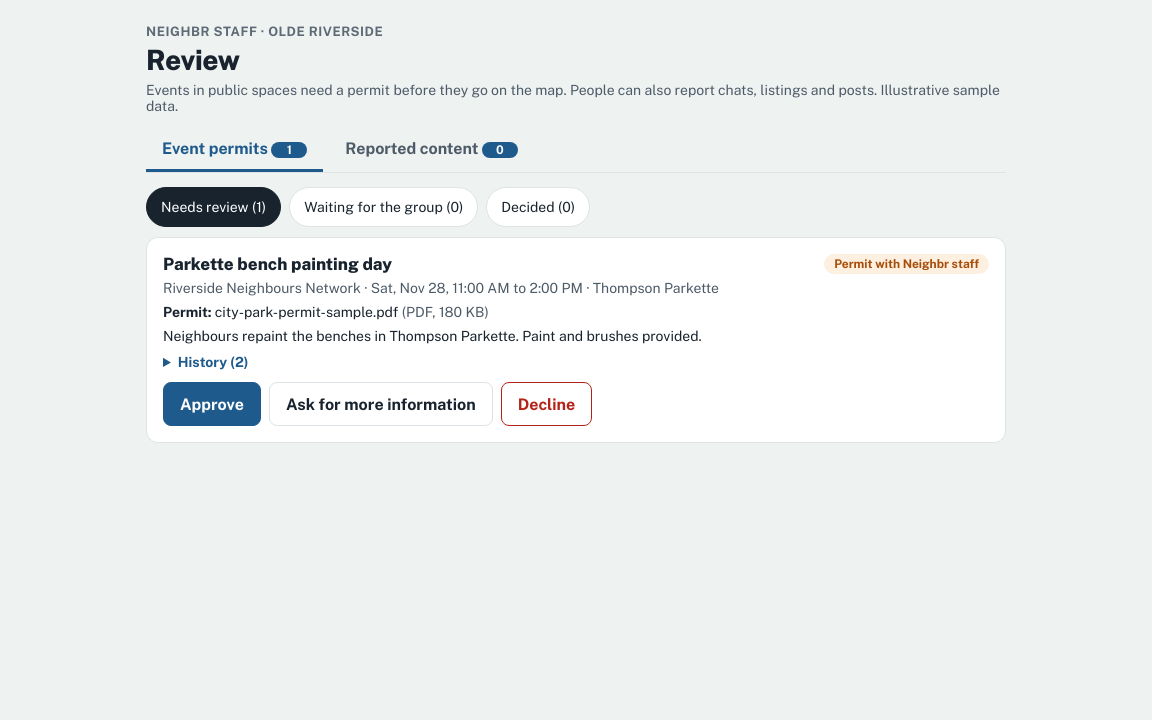
event permits › Decline asks for a reason first, then tells the group the reason
The image size is (1152, 720).
expect the heading "Review" is shown: met, box 146,43 -> 240,76
Click the button with aria-label "Decline the permit" at (546, 404), box 501,382 -> 592,426
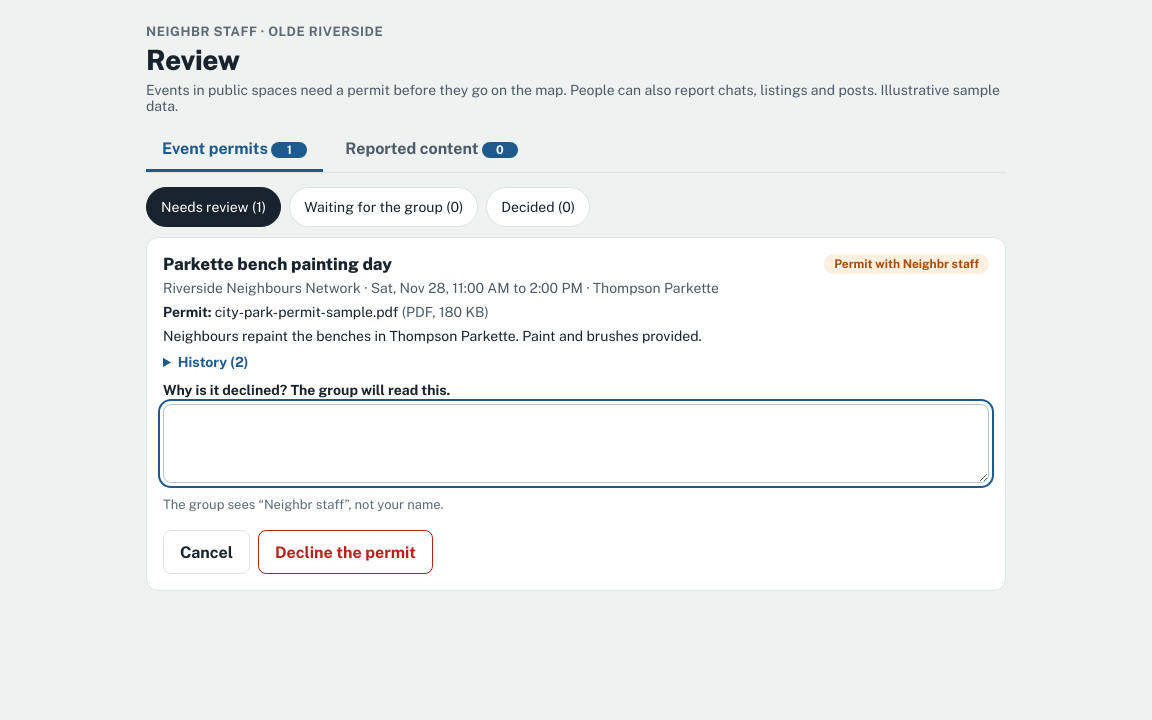
Click the button "Decline the permit" at (346, 552), box 258,530 -> 433,574
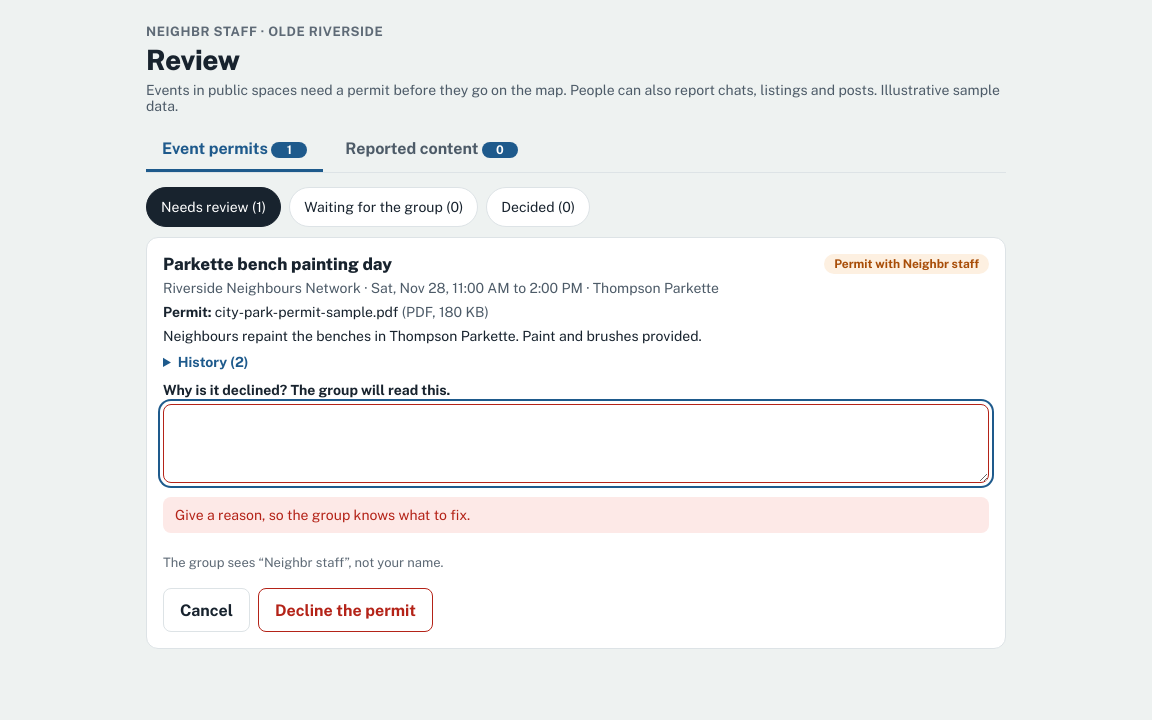
expect the message reads "Give a reason, so the group knows what to fix.": met, box 175,507 -> 470,523
Type "The permit covers Saturday only." into the text box at (576, 444), box 163,404 -> 989,483
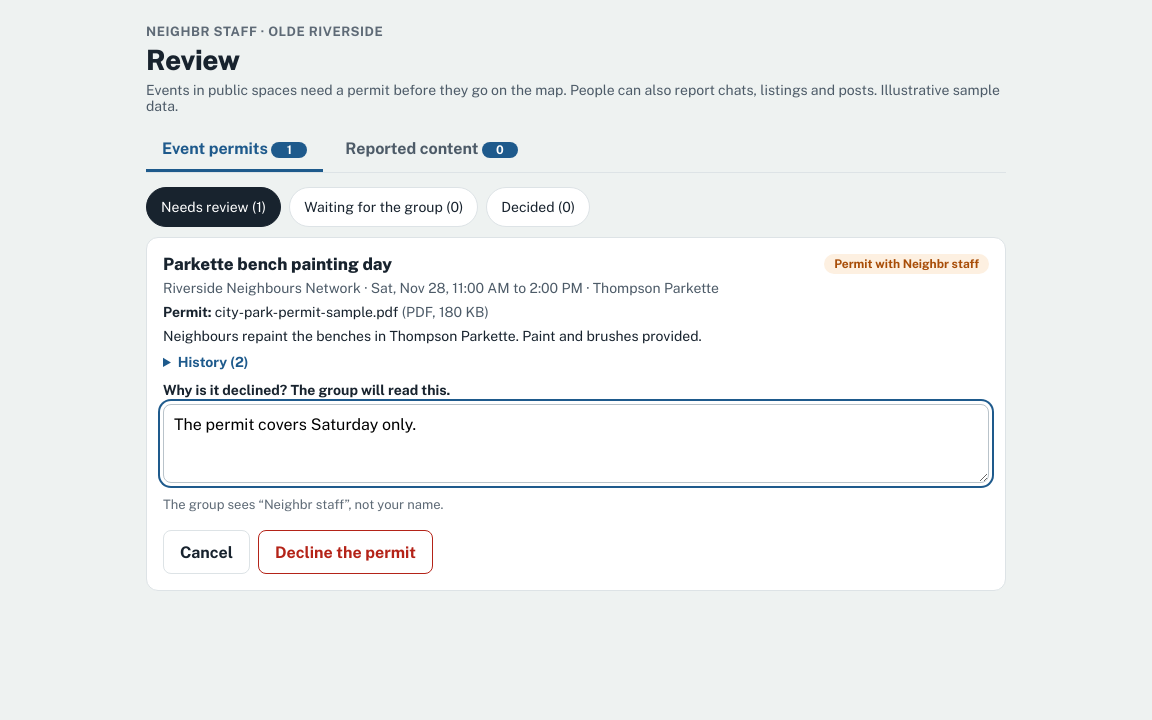
expect the message "Give a reason, so the group knows what to fix." is gone: met
Click the button "Decline the permit" at (346, 552), box 258,530 -> 433,574
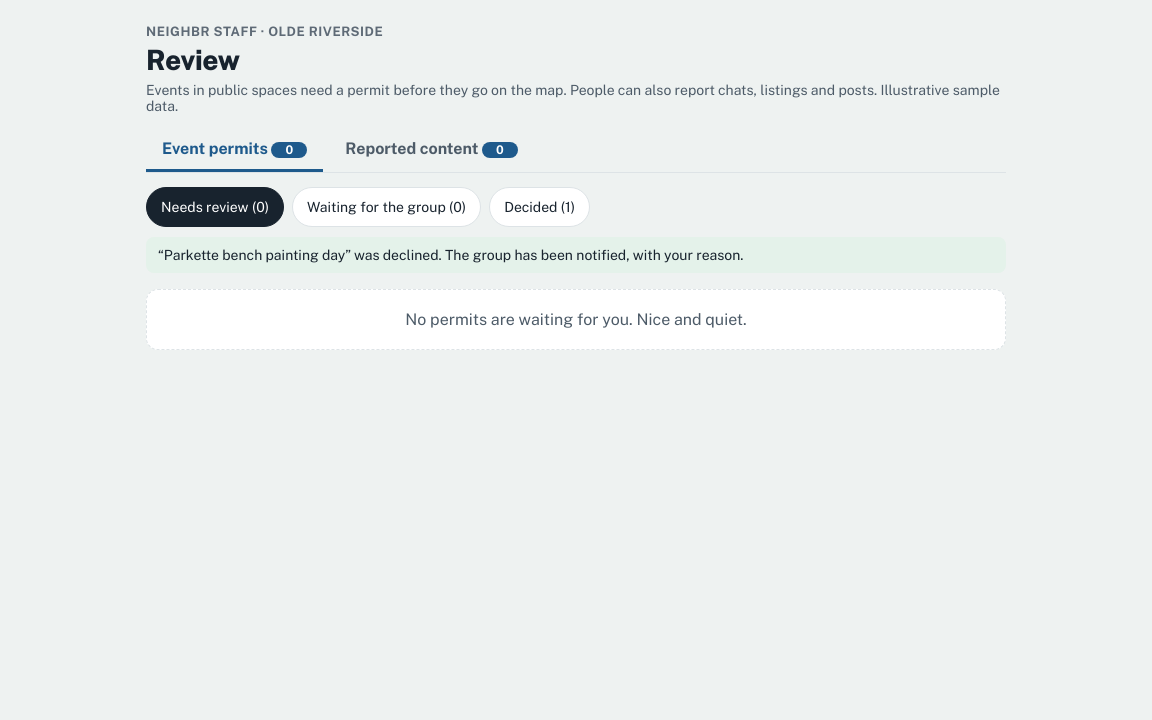
expect the text "was declined. The group has been notified, with your reason" is shown: met, box 158,247 -> 744,263
Click the button "Decided (1)" at (540, 207), box 489,187 -> 590,227
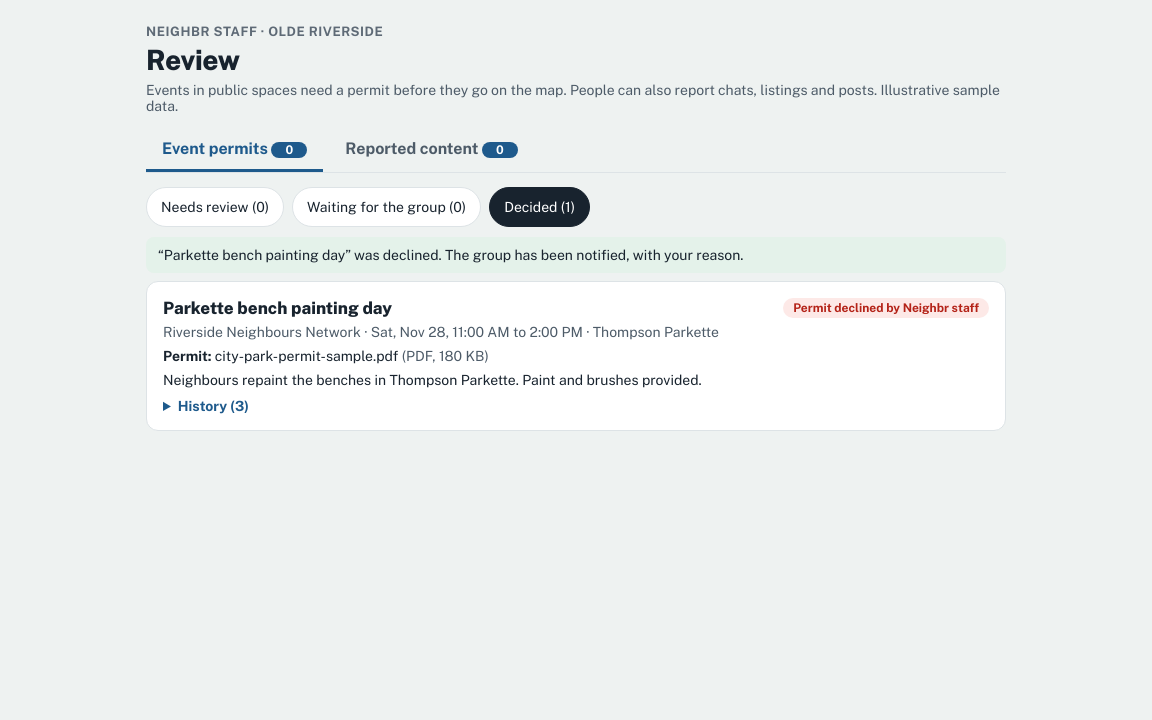
expect the text "Permit declined by Neighbr staff" is shown: met, box 783,298 -> 989,318
